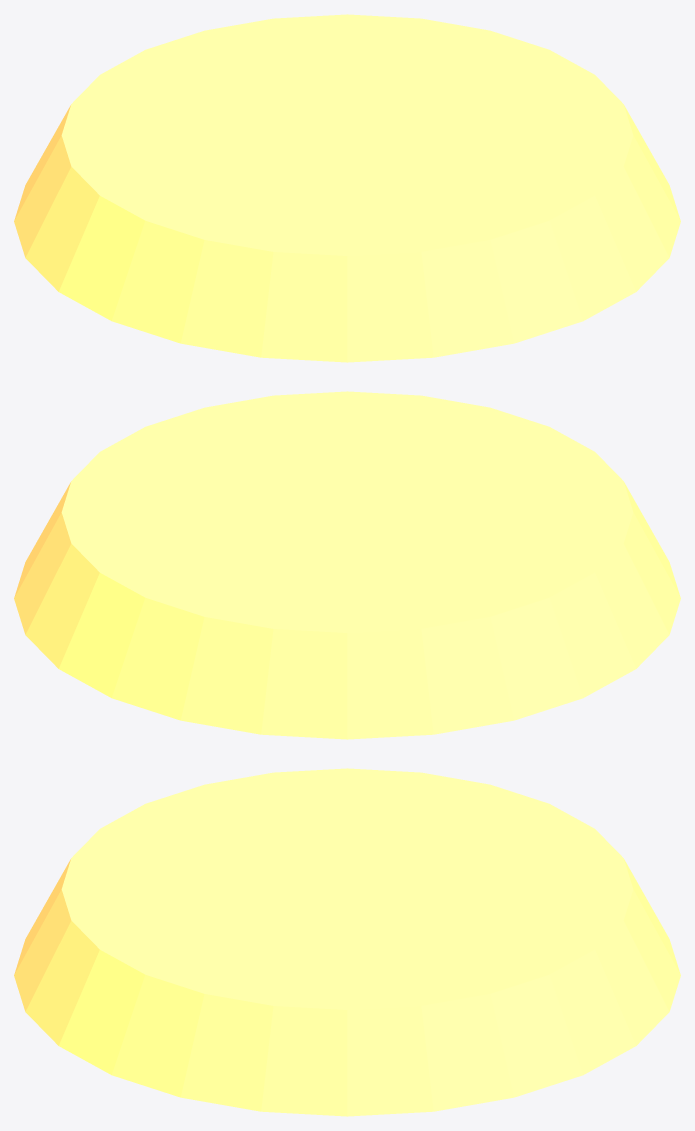
The model's file is sprungfeld.glb.
3 renders of one model, top to bottom at view 1: azimuth 30°, elevation 25°; view 2: azimuth 150°, elevation 25°; view 3: azimuth 270°, elevation 25°, orthographic.
Parts seen in each view (by area): view 1: Sprungfeld; view 2: Sprungfeld; view 3: Sprungfeld.
Part boxes in pixels (x1,y1,x2,y2): Sprungfeld: [14, 14, 680, 362]; Sprungfeld: [14, 391, 680, 739]; Sprungfeld: [14, 768, 680, 1116].
Size of the model in its own units: 2.8 by 0.4 by 2.8.
